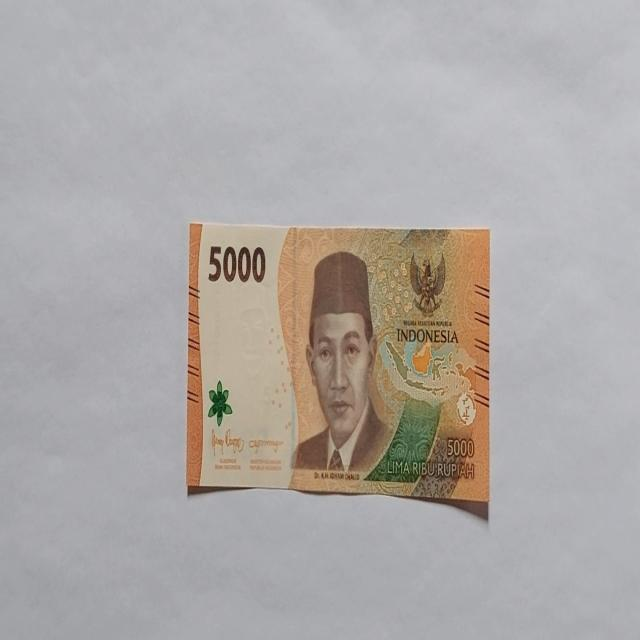lima ribu rupiah: (186, 219, 490, 516), (290, 248, 394, 478)
